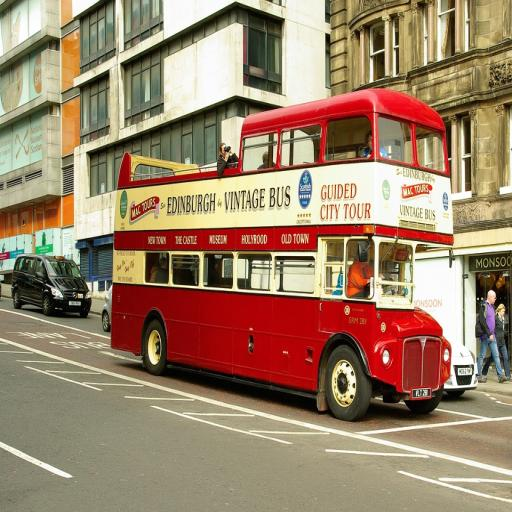bus: (111, 85, 451, 426)
hatchback: (421, 302, 481, 391)
van: (14, 252, 95, 320)
